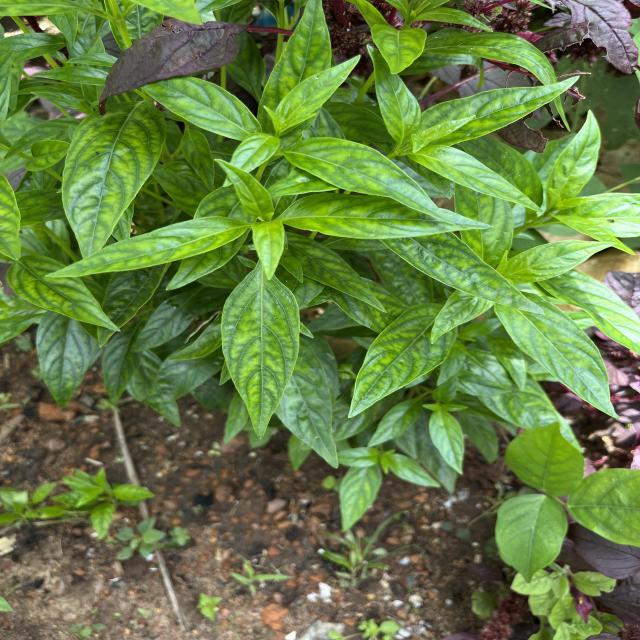Andrographis paniculata: (491, 290, 621, 422), (60, 100, 168, 256), (279, 136, 449, 224), (219, 265, 303, 440), (384, 233, 550, 320), (42, 213, 252, 278), (345, 300, 458, 420), (420, 74, 580, 146), (255, 0, 337, 136), (281, 192, 494, 242), (4, 253, 126, 334), (408, 144, 546, 214), (214, 158, 275, 218), (336, 464, 386, 532)
